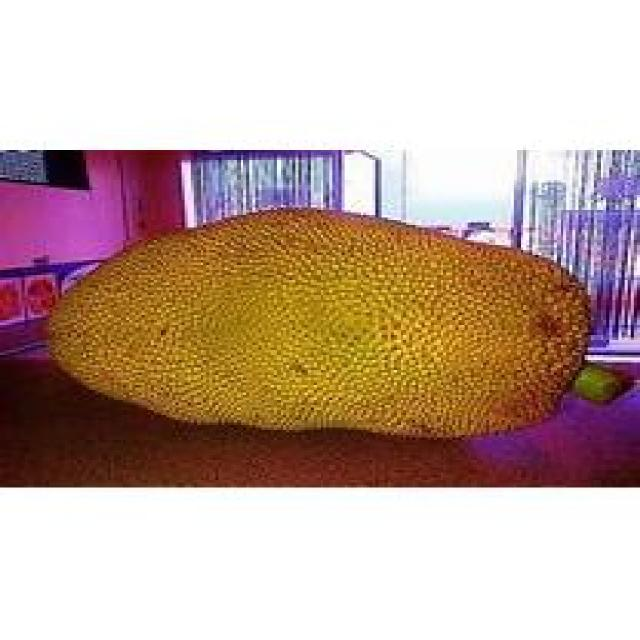Fruit: (22, 188, 424, 452), (234, 210, 612, 465)
